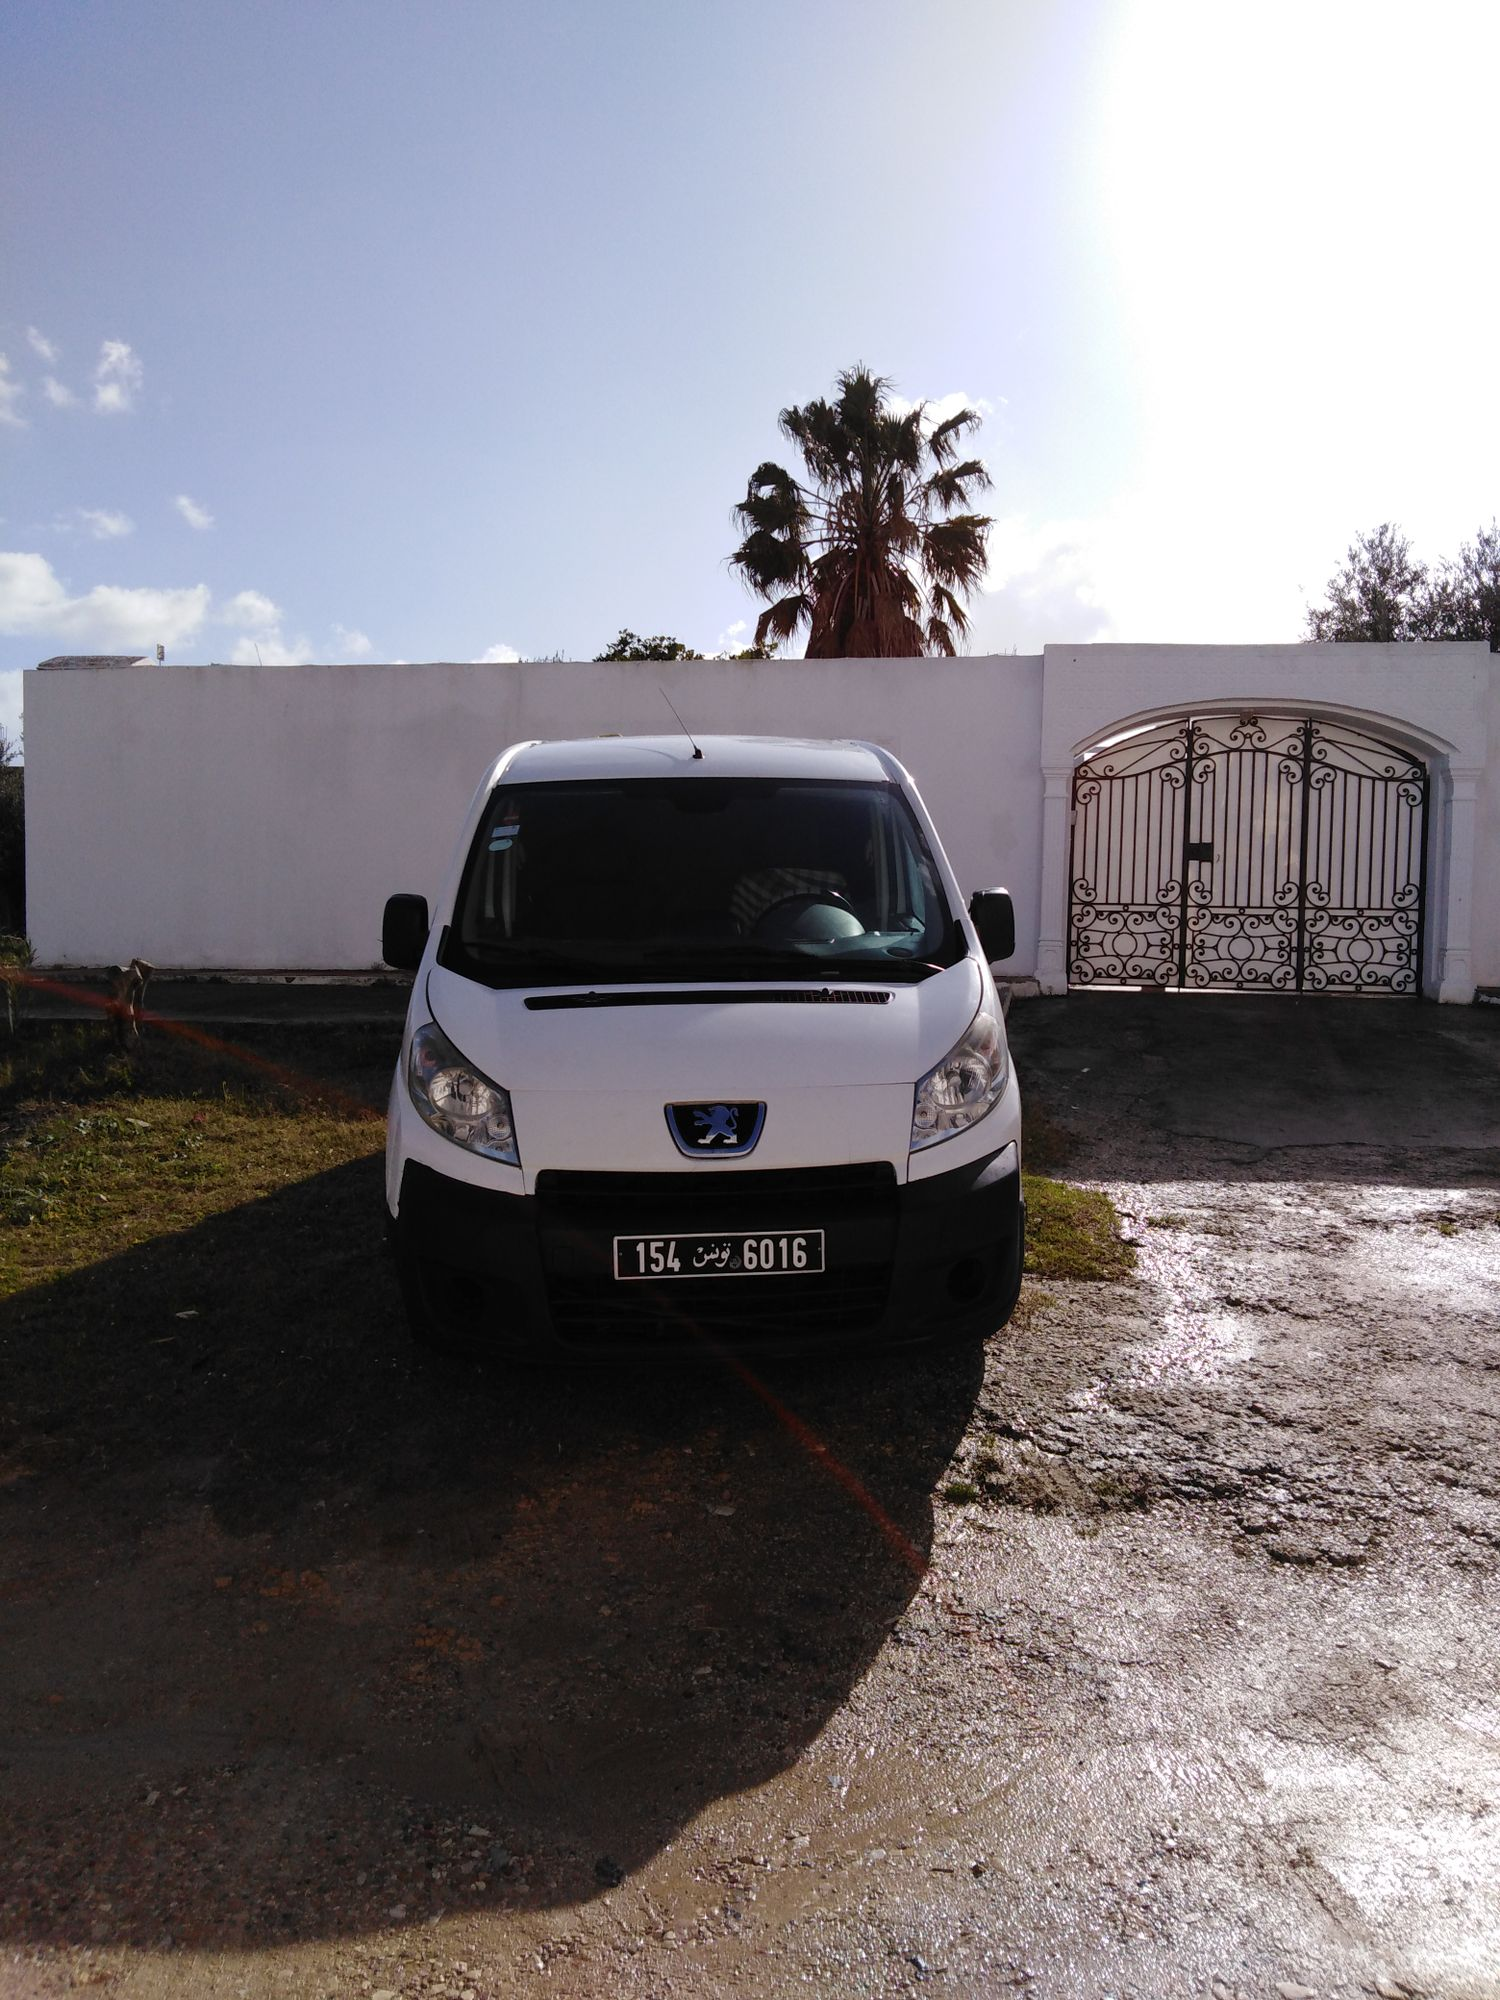LP: (612, 1228, 824, 1281)
